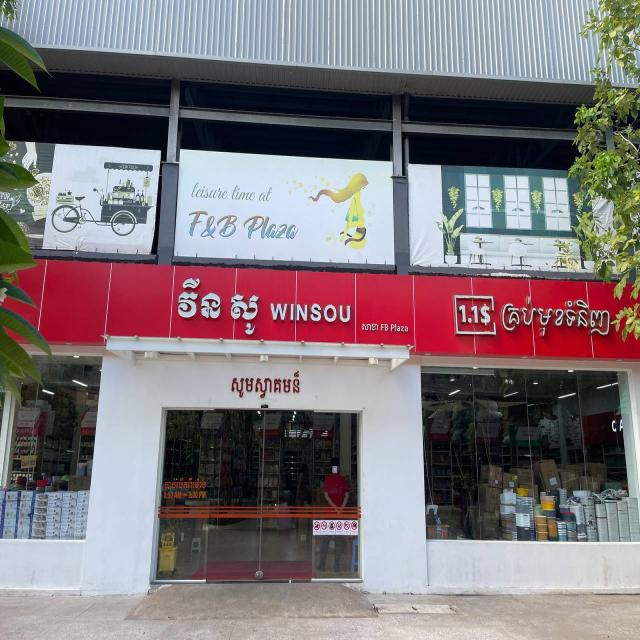1: (176, 270, 261, 340)
510: (456, 299, 494, 330)
Yolov11kh: (498, 293, 614, 343), (228, 367, 304, 399), (162, 473, 210, 493), (359, 318, 381, 337)
